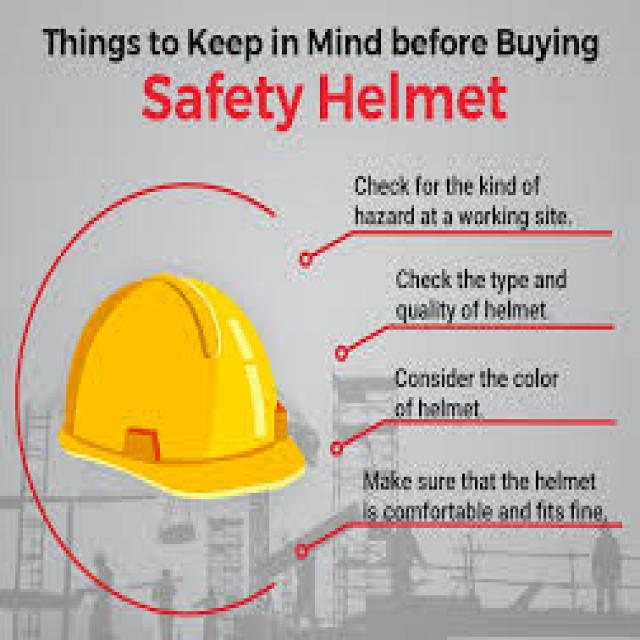Safety-Helmet: (30, 259, 315, 506)
